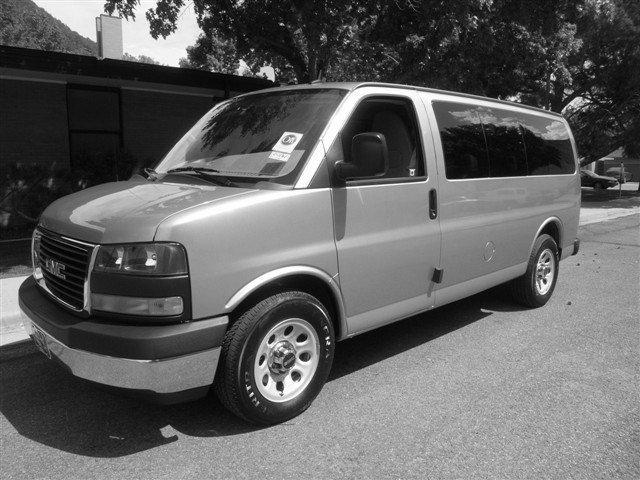car: (17, 79, 584, 429)
